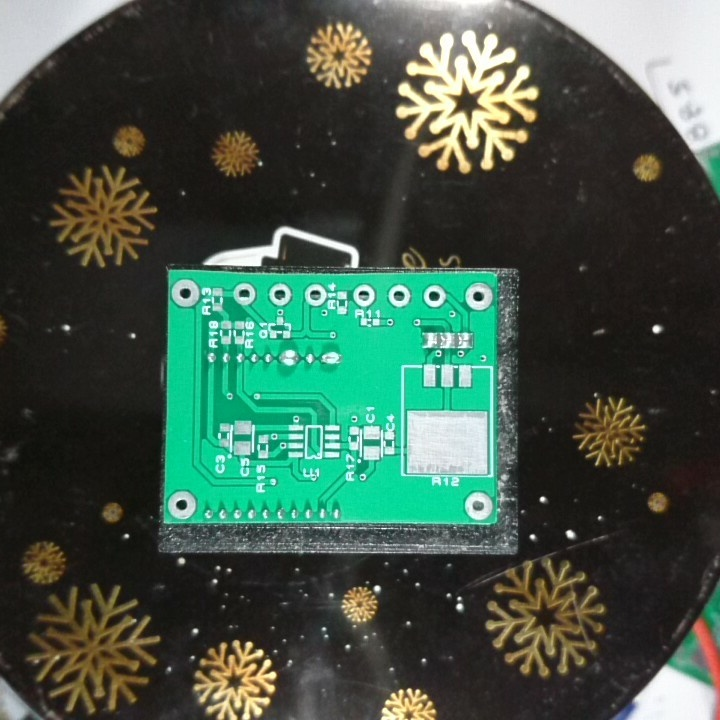F: (165, 489, 198, 520), (461, 491, 494, 522), (462, 282, 495, 312), (170, 278, 200, 309), (265, 281, 294, 309), (385, 283, 412, 310), (351, 283, 379, 309), (422, 283, 448, 310), (231, 282, 257, 307), (303, 283, 327, 308)
P: (275, 347, 300, 369), (317, 349, 344, 369)
